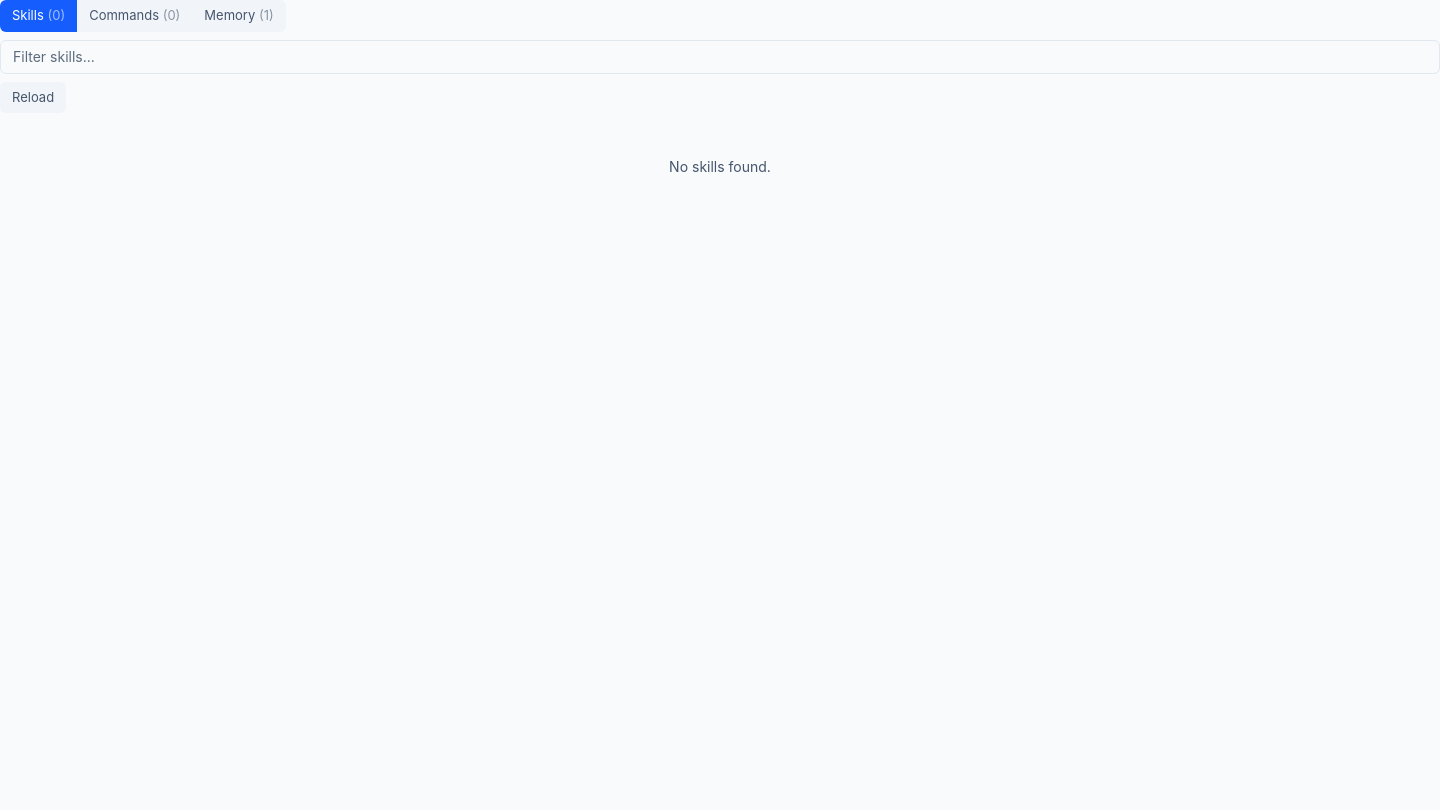
Scenario: configExplorer editor › opens the editor with loaded content
Click the button "Memory (1)".
click(239, 16)  # box x1=192 y1=0 x2=286 y2=32
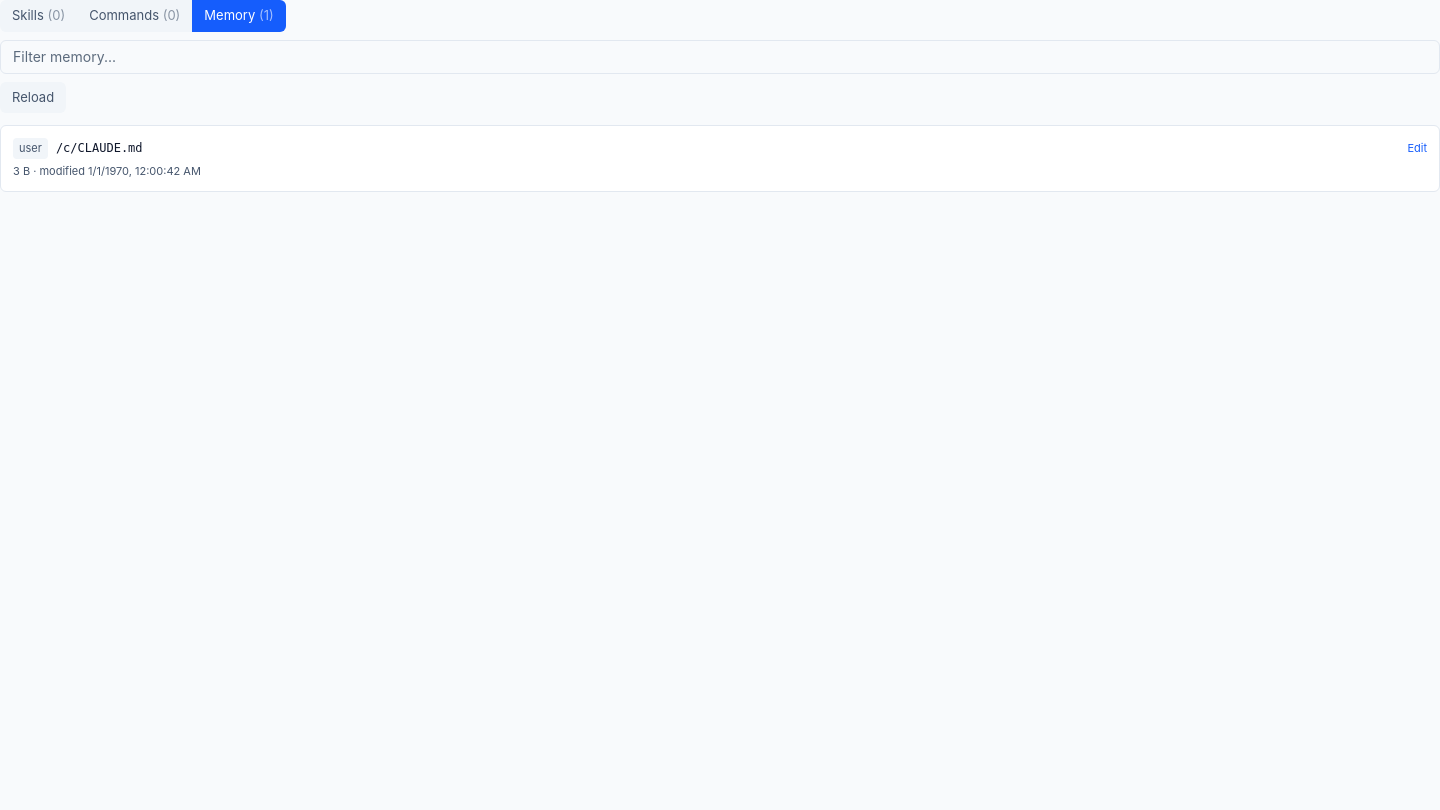
Click the button "Edit".
click(1417, 148)  # box x1=1407 y1=140 x2=1427 y2=156
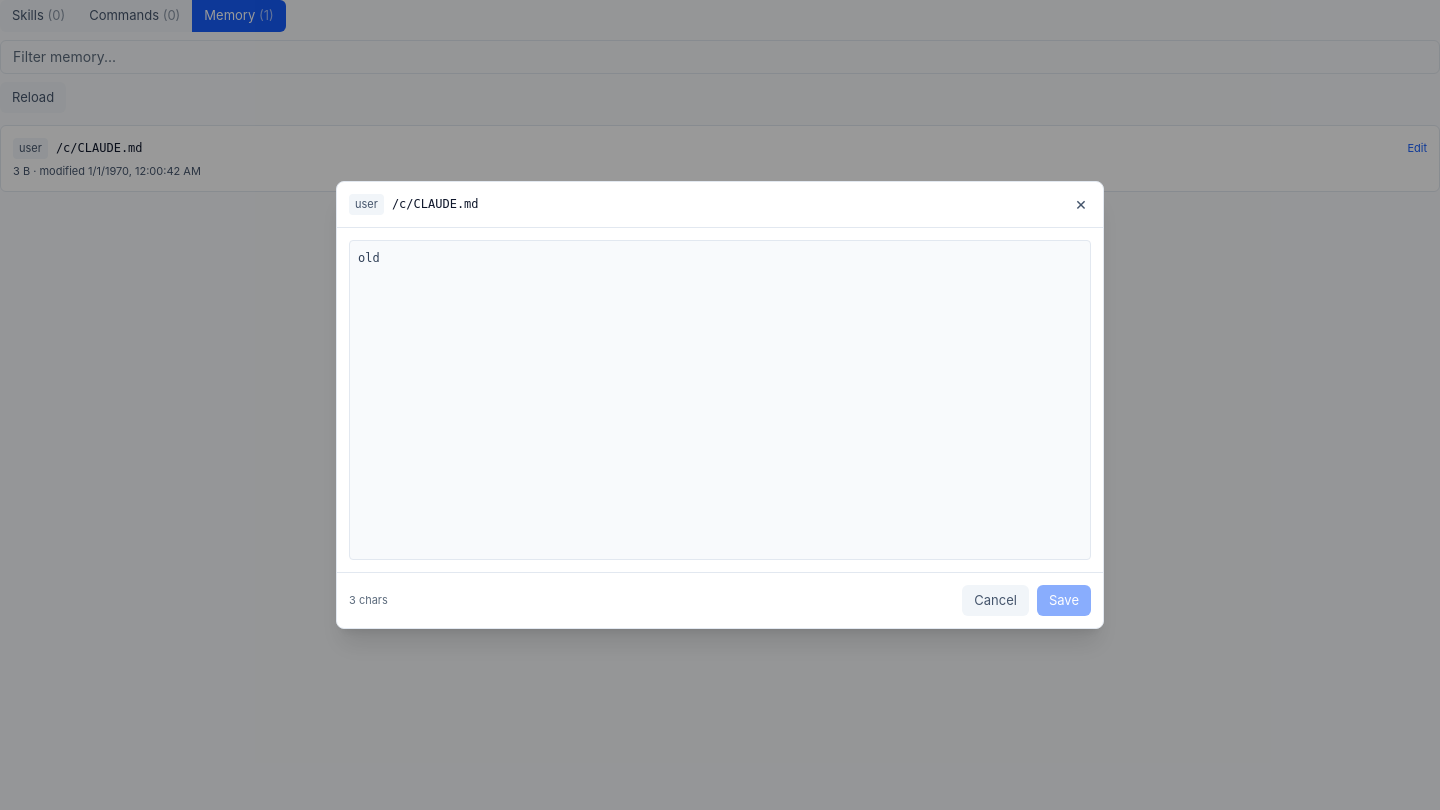
Check: the text box holds "old", box x1=349 y1=240 x2=1091 y2=560
